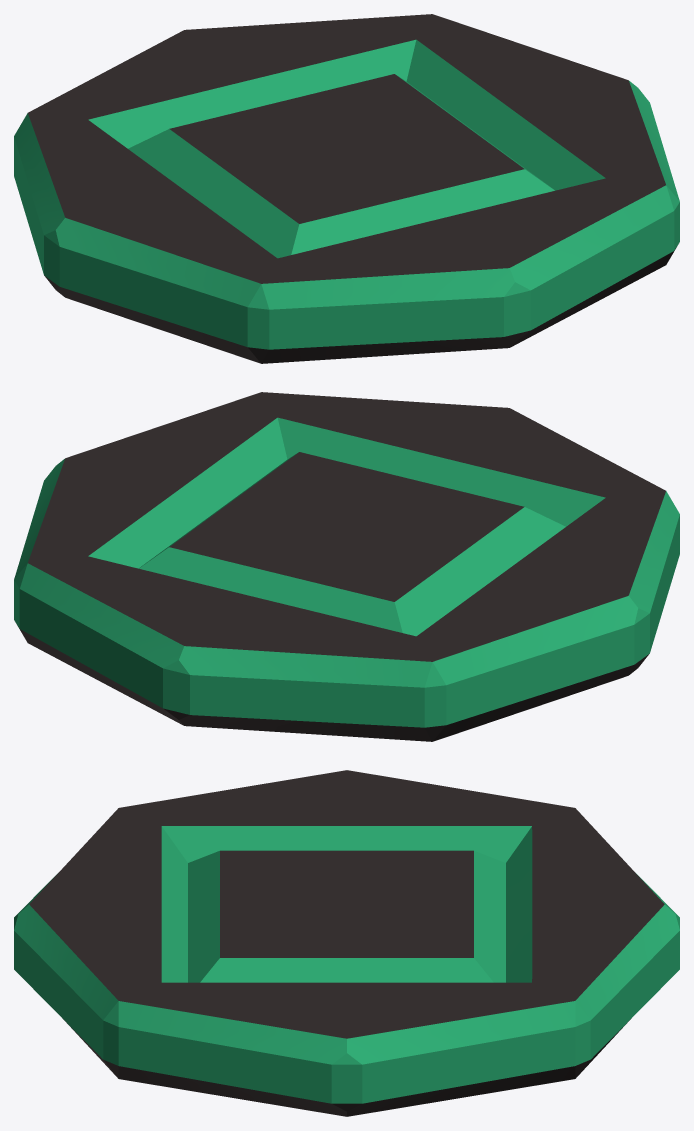
Rendered from SpawnPoint_Ball.fbx.
The picture shows the model from 3 angles, top to bottom: view 1: azimuth 30°, elevation 25°; view 2: azimuth 150°, elevation 25°; view 3: azimuth 270°, elevation 25°; orthographic projection. The views are drawn at different scales.
Parts seen in each view (by area): view 1: pCube2; view 2: pCube2; view 3: pCube2.
Part boxes in pixels (x1,y1,x2,y2): pCube2: (14, 14, 679, 363); pCube2: (14, 392, 679, 741); pCube2: (14, 770, 679, 1116).
Size of the model in its own units: 3.6 by 0.4662 by 3.6.
